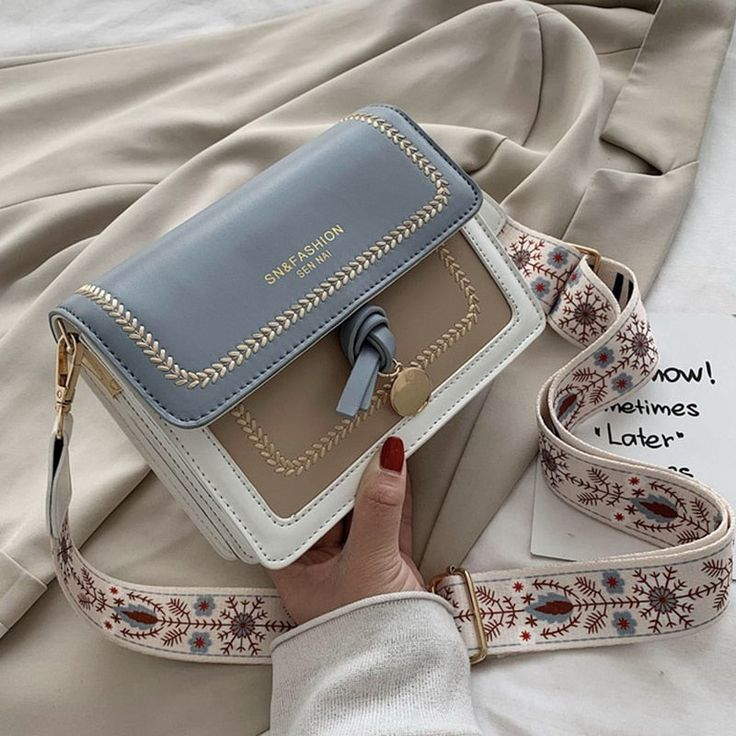cuero: (50, 104, 550, 570)
